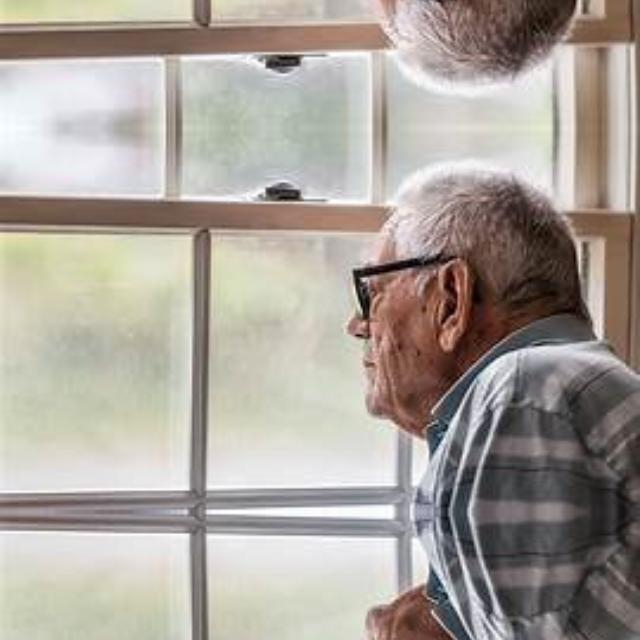person: (332, 146, 638, 512), (331, 512, 638, 640), (331, 0, 638, 109)
